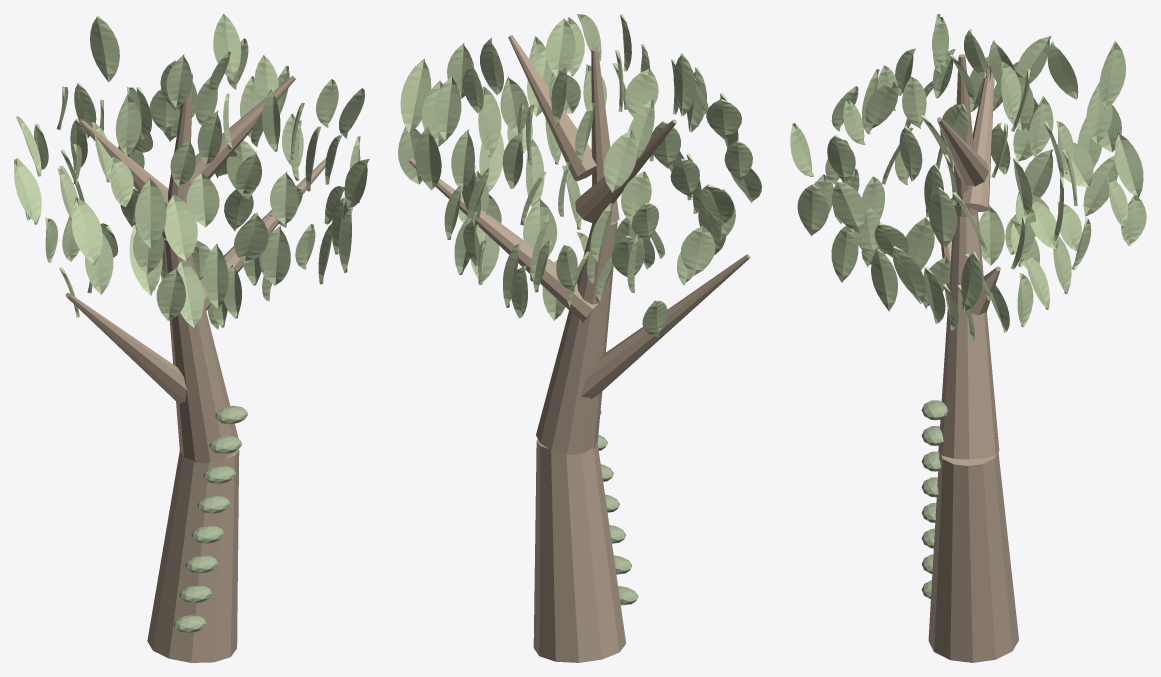
File: prop_orchard_tree.glb
3 renders of one model, left to right at view 1: azimuth 30°, elevation 25°; view 2: azimuth 150°, elevation 25°; view 3: azimuth 270°, elevation 25°, orthographic. The views are drawn at different scales.
Visible parts, largest first — view 1: trunk, branch_0, branch_3, leaf_35, leaf_48, leaf_43, leaf_15, leaf_27, leaf_53, leaf_5, leaf_40, leaf_61 (+30 smaller); view 2: trunk, branch_0, branch_1, branch_3, branch_2, leaf_34, leaf_20, leaf_18, leaf_0, leaf_59, leaf_39, leaf_42 (+38 smaller); view 3: trunk, branch_2, branch_3, leaf_49, leaf_42, leaf_15, leaf_37, leaf_45, leaf_71, leaf_62, leaf_58, leaf_88 (+38 smaller).
Part boxes in pixels (x1,y1,x2,y2): trunk: [147, 73, 239, 662]; branch_0: [65, 293, 186, 403]; branch_3: [189, 76, 295, 186]; leaf_35: [135, 177, 166, 248]; leaf_48: [164, 194, 197, 261]; leaf_43: [71, 197, 102, 264]; leaf_15: [90, 15, 119, 82]; leaf_27: [186, 172, 219, 227]; leaf_53: [260, 226, 290, 285]; leaf_5: [213, 14, 241, 80]; leaf_40: [234, 213, 268, 263]; leaf_61: [203, 243, 228, 308]; trunk: [533, 48, 626, 662]; branch_0: [581, 254, 750, 399]; branch_1: [409, 158, 597, 322]; branch_3: [508, 35, 597, 180]; branch_2: [575, 119, 676, 223]; leaf_34: [400, 58, 431, 133]; leaf_20: [604, 130, 636, 192]; leaf_18: [434, 75, 461, 140]; leaf_0: [545, 18, 575, 76]; leaf_59: [681, 225, 715, 275]; leaf_39: [415, 126, 441, 190]; leaf_42: [478, 86, 501, 157]; trunk: [928, 54, 1018, 662]; branch_2: [958, 45, 994, 211]; branch_3: [937, 117, 988, 186]; leaf_49: [1114, 132, 1143, 197]; leaf_42: [928, 187, 957, 248]; leaf_15: [1099, 41, 1125, 109]; leaf_37: [832, 181, 865, 233]; leaf_45: [797, 184, 828, 236]; leaf_71: [871, 249, 897, 311]; leaf_62: [1083, 155, 1118, 216]; leaf_58: [831, 225, 858, 282]; leaf_88: [979, 204, 1004, 265].
Bounding box in the file's own units: 3.94 × 6.89 × 3.61.
